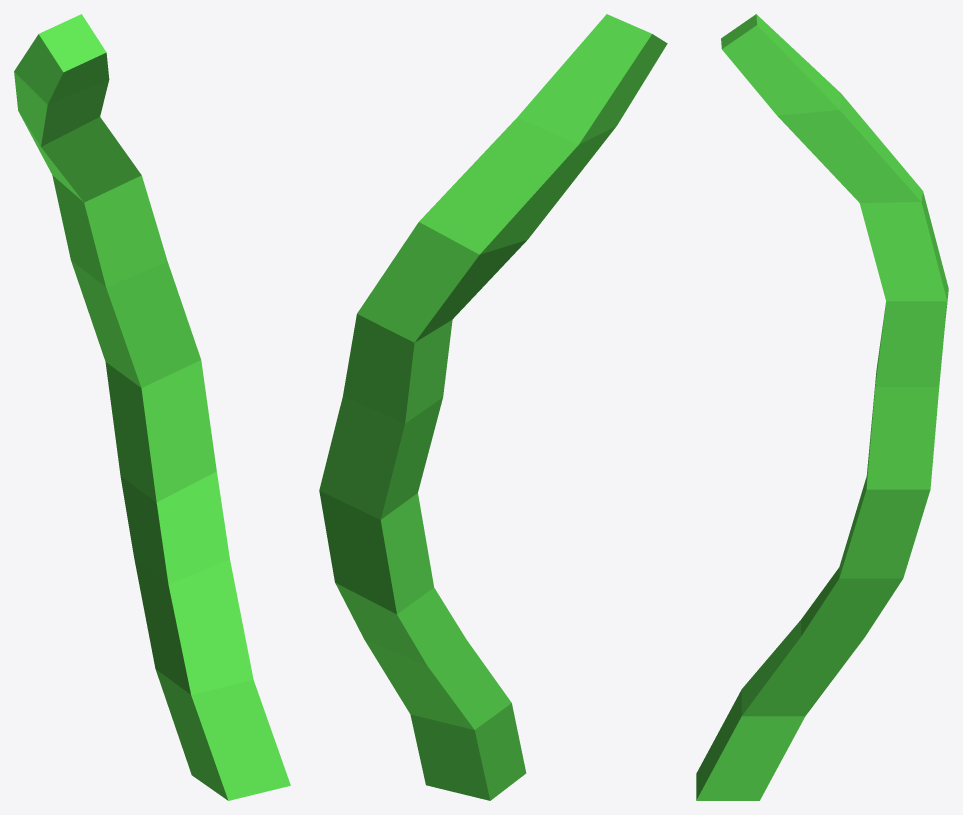
3 renders of one model, left to right at view 1: azimuth 30°, elevation 25°; view 2: azimuth 150°, elevation 25°; view 3: azimuth 270°, elevation 25°, orthographic. The views are drawn at different scales.
Visible parts, largest first — view 1: root05; view 2: root05; view 3: root05.
Part boxes in pixels (x1,y1,x2,y2): root05: [14, 14, 290, 800]; root05: [319, 14, 667, 800]; root05: [696, 14, 948, 800].
Size of the model in its own units: 14.8 by 49.61 by 16.21.
